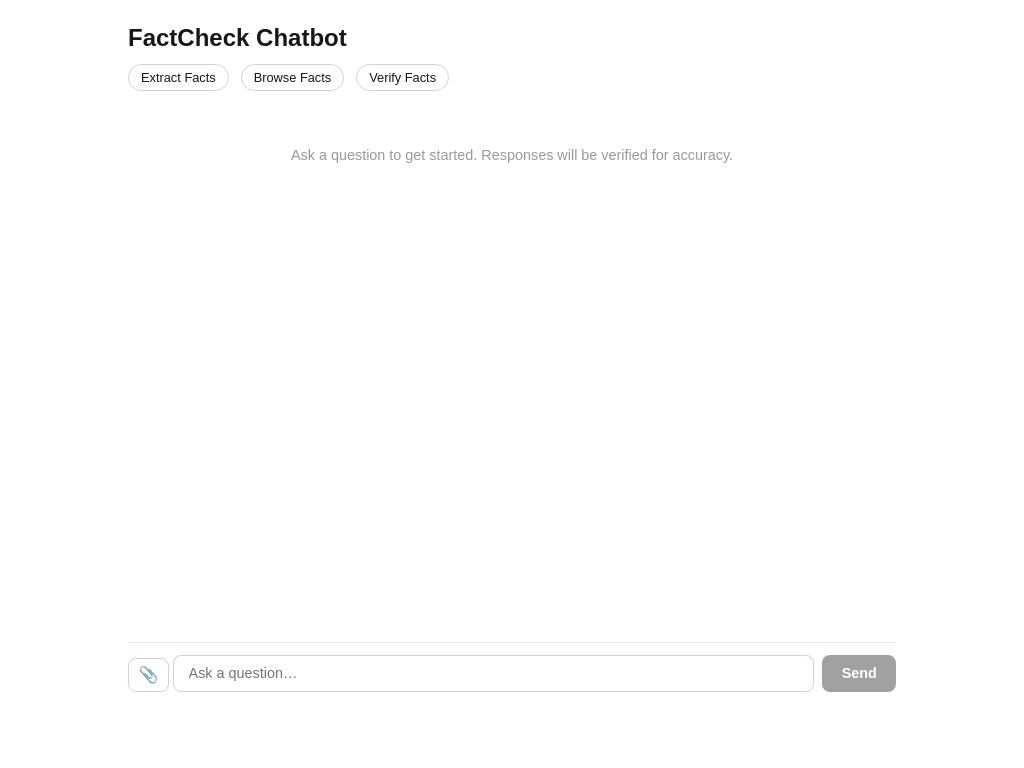
Test: ChatGPT integration – end-to-end user session › shows an unverified badge when ChatGPT returns an unverified response
Type "Is the moon made of cheese?" into the field named "chat input" at point(494, 673), box [173,655,814,692]
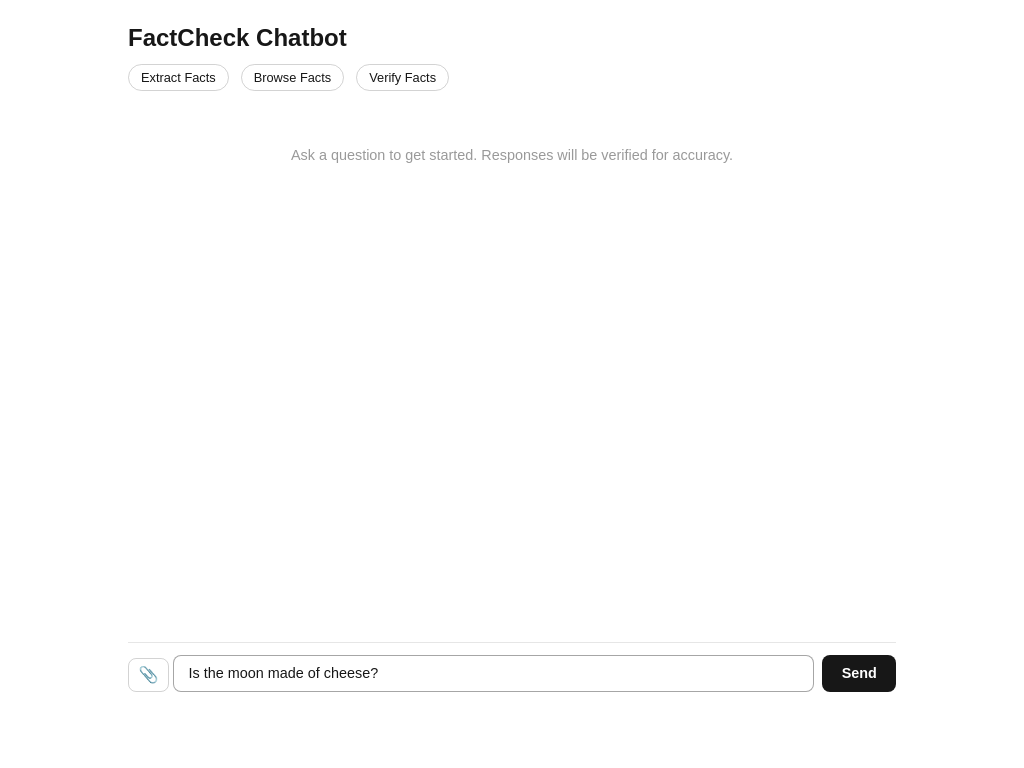
Click the button with aria-label "send message" at point(859, 673), box [822,655,896,692]
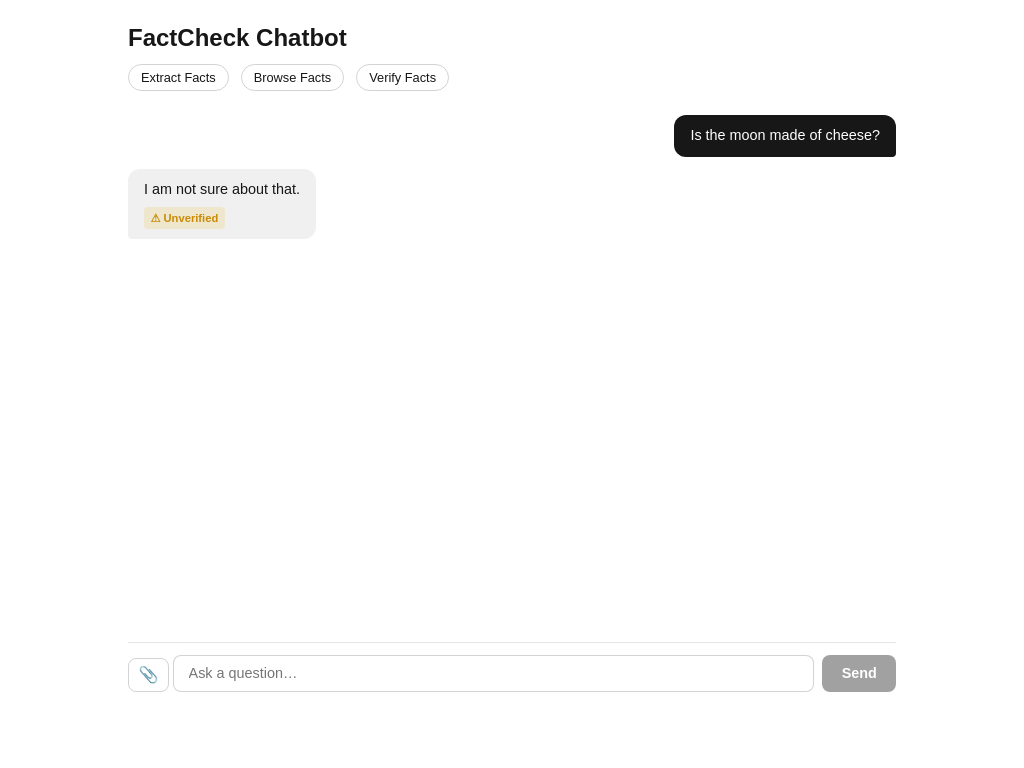
expect the picture named "fact verification status: unverified" is shown: met, box [144,207,225,229]
